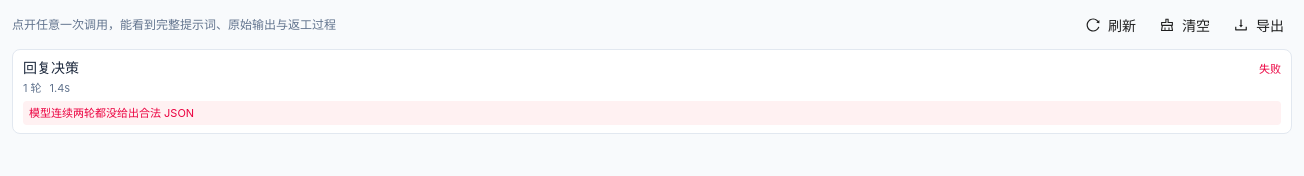
Test: TracePanel › 展示 token 用量与失败原因
expect the text "失败" is shown: met, box left=1259, top=61, right=1281, bottom=78
expect the text "模型连续两轮都没给出合法 JSON" is shown: met, box left=23, top=100, right=1281, bottom=124
Click the button with aria-label "轨迹 回复决策": (51, 68) left=23, top=58, right=1281, bottom=124
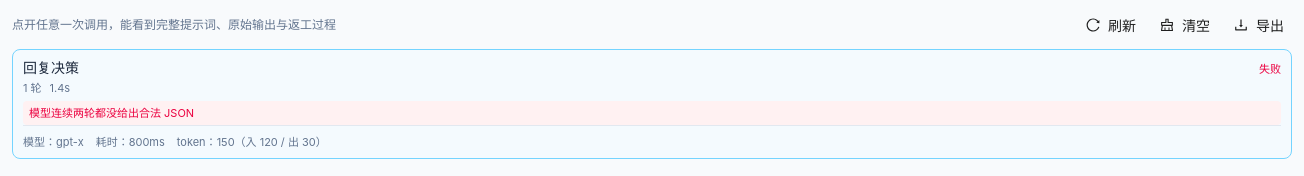
expect the text "token：150（入 120 / 出 30）" is shown: met, box left=177, top=134, right=327, bottom=150
